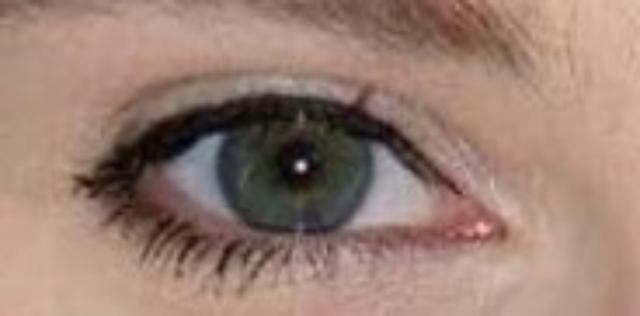eye: (210, 106, 372, 226)
